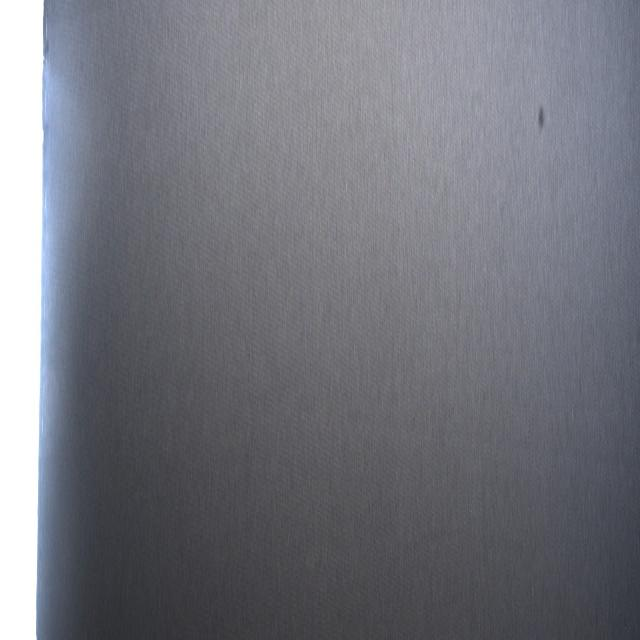crease: (370, 515, 464, 615), (475, 425, 498, 640)
